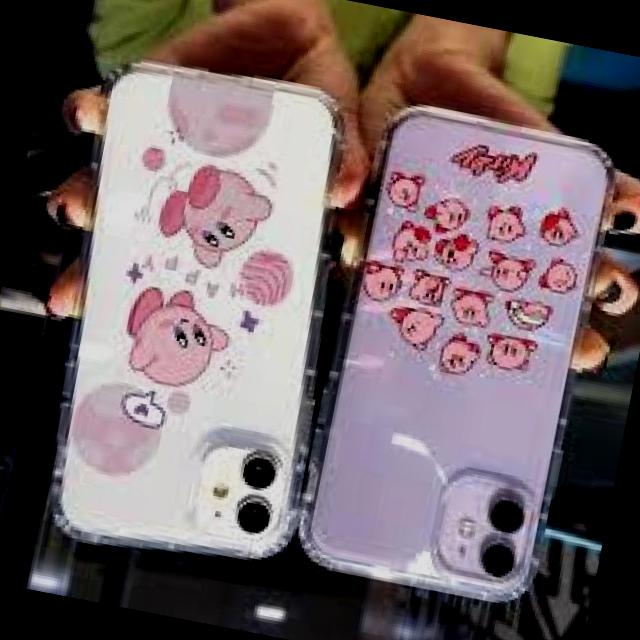lens_back: (474, 532, 521, 582), (483, 488, 529, 538), (230, 491, 276, 540), (237, 450, 281, 495)
phone: (28, 48, 370, 590), (284, 94, 634, 616)
